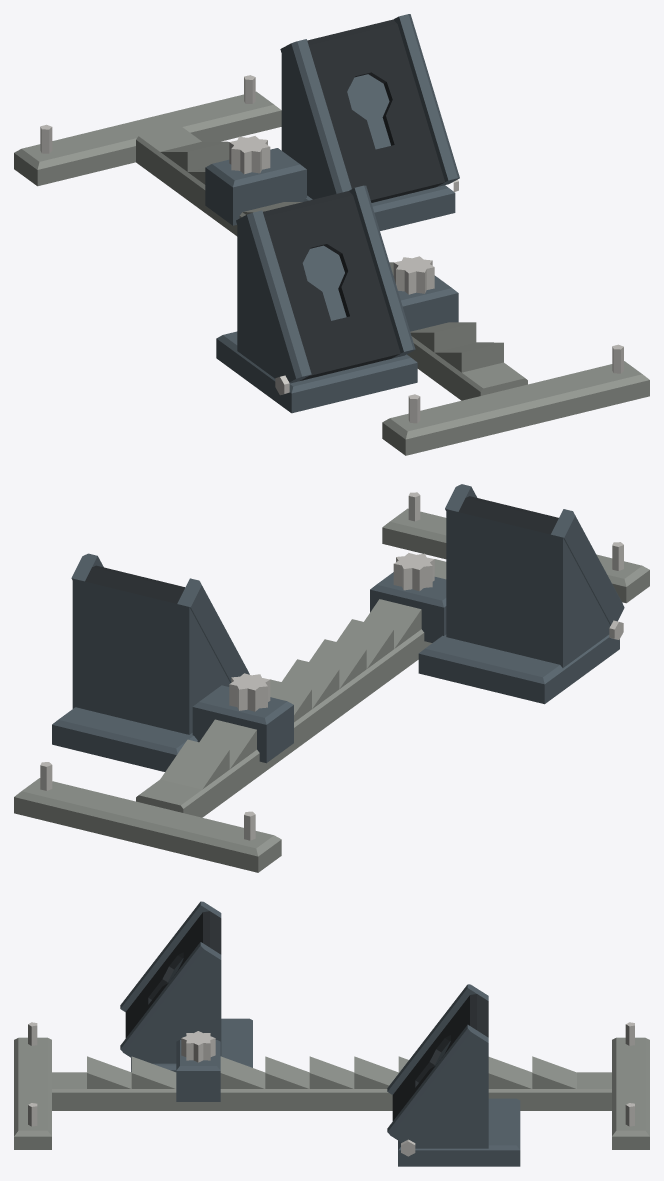
File: starting-blocks-9d8848.glb
3 renders of one model, top to bottom at view 1: azimuth 30°, elevation 25°; view 2: azimuth 150°, elevation 25°; view 3: azimuth 270°, elevation 25°, orthographic. The views are drawn at different scales.
Parts seen in each view (by area): view 1: starting-blocks-mesh; view 2: starting-blocks-mesh; view 3: starting-blocks-mesh.
Boxes of the visible parts, <box> form: starting-blocks-mesh: <box>14,14,649,455</box>; starting-blocks-mesh: <box>14,484,649,872</box>; starting-blocks-mesh: <box>14,901,649,1166</box>.
Bounding box in the file's own units: 0.5 × 0.2372 × 1.
